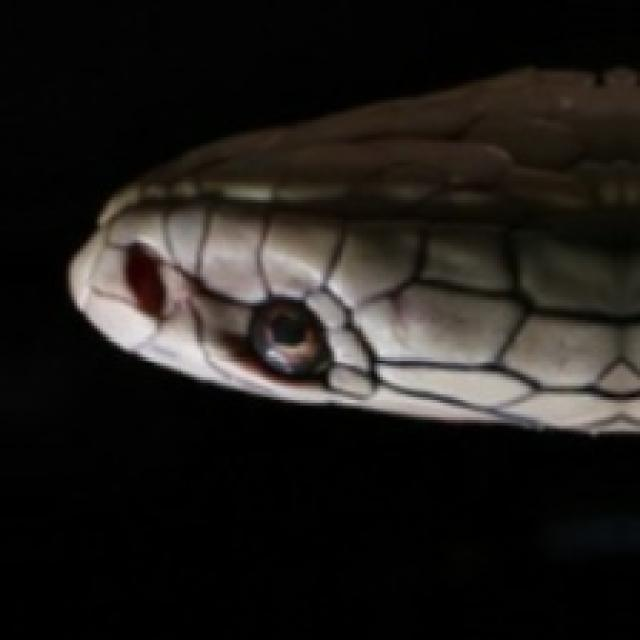king cobra: (69, 69, 637, 431)
